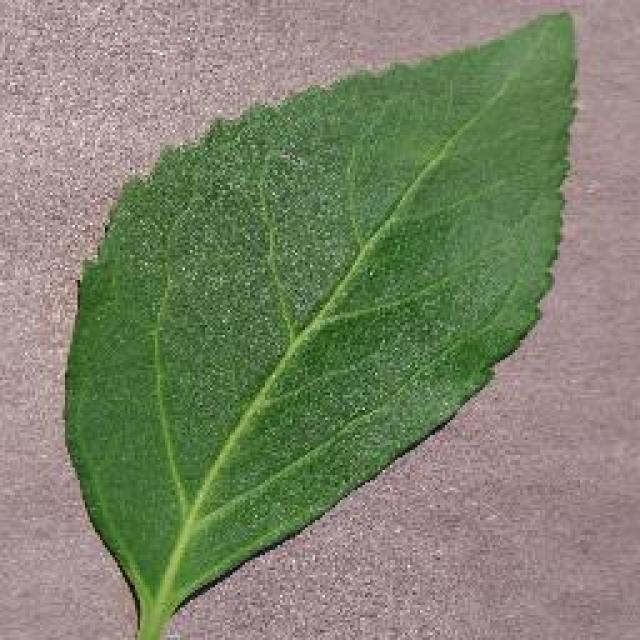Cherry___healthy: (49, 7, 592, 640)
